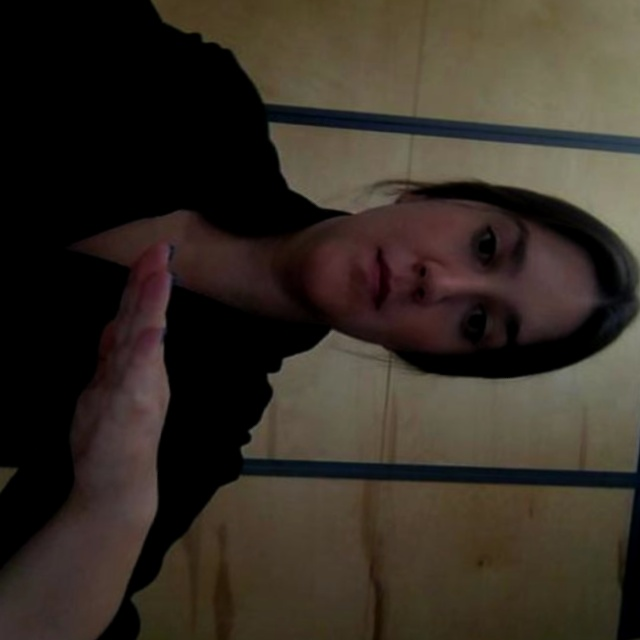Paper: (0, 0, 7, 281)
